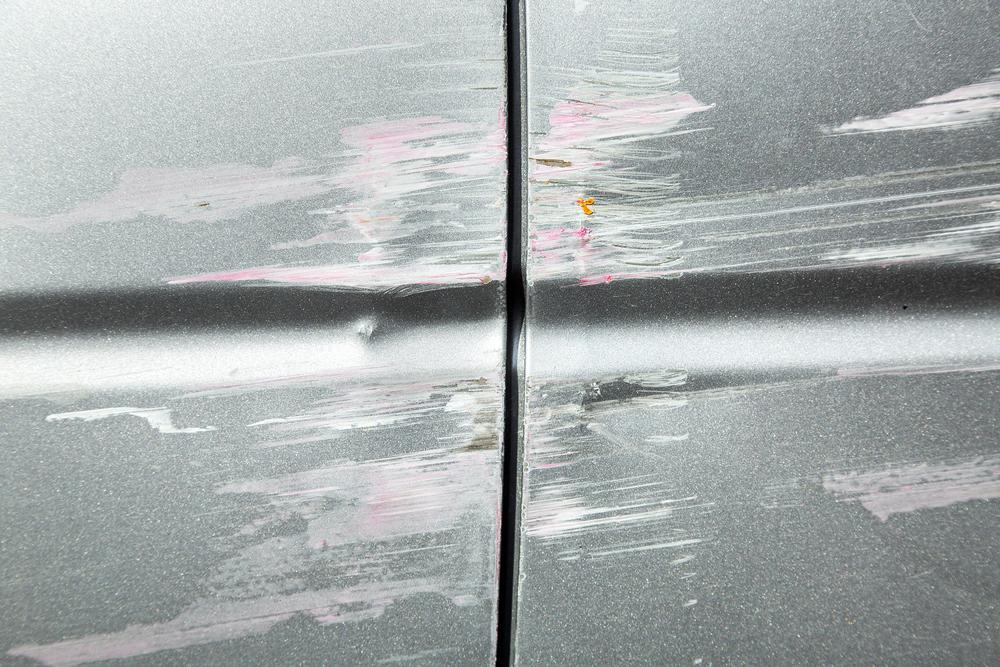scratch: (0, 0, 505, 667), (517, 0, 1000, 604)
